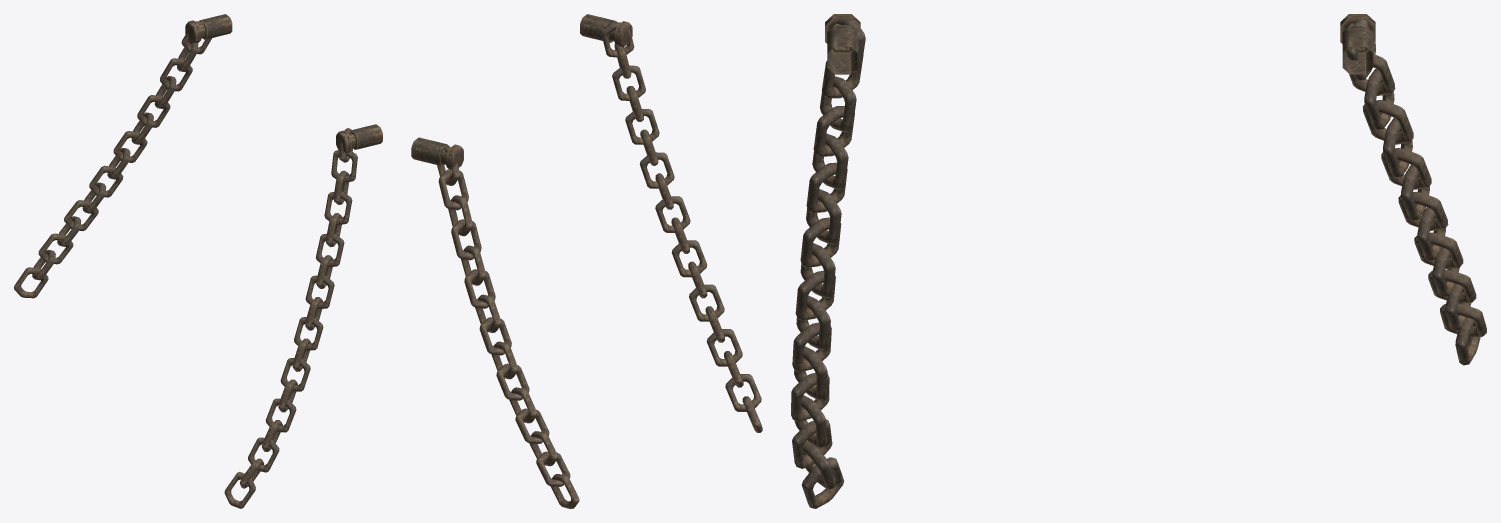
3 renders of one model, left to right at view 1: azimuth 30°, elevation 25°; view 2: azimuth 150°, elevation 25°; view 3: azimuth 270°, elevation 25°, orthographic. The views are drawn at different scales.
Parts seen in each view (by area): view 1: SM_DR_DemonChains_02_LOD0; view 2: SM_DR_DemonChains_02_LOD0; view 3: SM_DR_DemonChains_02_LOD0.
Part boxes in pixels (x1=…): SM_DR_DemonChains_02_LOD0: x1=14, y1=14, x2=382, y2=508; SM_DR_DemonChains_02_LOD0: x1=411, y1=14, x2=762, y2=508; SM_DR_DemonChains_02_LOD0: x1=791, y1=14, x2=1486, y2=508.
Bounding box in the file's own units: 2.58 × 4.73 × 5.07.
Materials: 1 (1 with a texture image).
